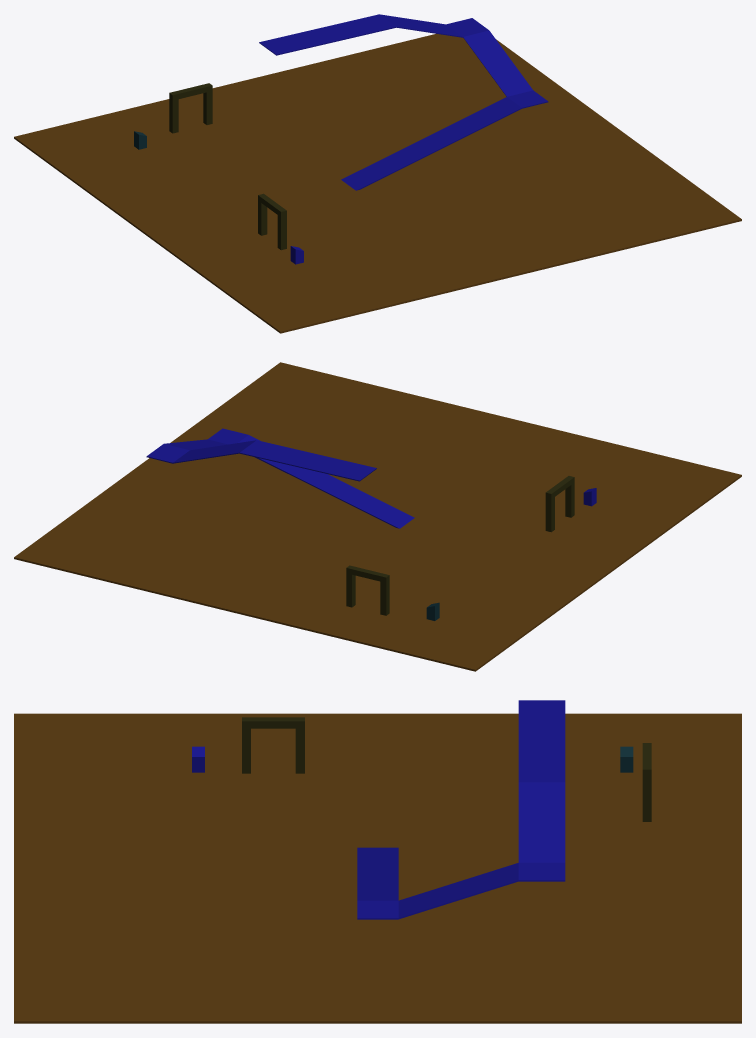
The model's file is chunk1.glb.
The picture shows the model from 3 angles, top to bottom: view 1: azimuth 30°, elevation 25°; view 2: azimuth 150°, elevation 25°; view 3: azimuth 270°, elevation 25°; orthographic projection. The views are drawn at different scales.
Parts seen in each view (by area): view 1: Chunk1, Cube; view 2: Chunk1, Cube; view 3: Chunk1, Cube.
Boxes of the visible parts, <box> form: Chunk1: <box>14,33,741,333</box>; Cube: <box>259,14,548,190</box>; Chunk1: <box>14,362,741,671</box>; Cube: <box>146,428,414,528</box>; Chunk1: <box>14,713,741,1023</box>; Cube: <box>357,700,565,919</box>.
Size of the model in its own units: 80 by 16.52 by 80.
